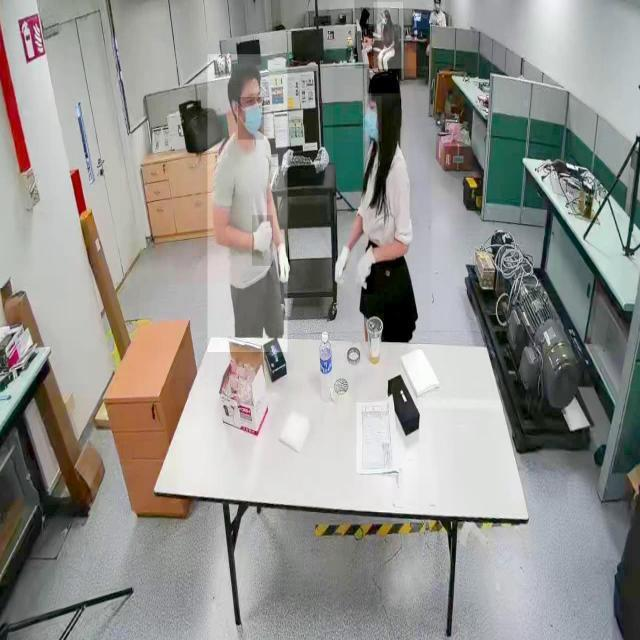gloves: (252, 216, 274, 266), (357, 243, 375, 296), (276, 242, 290, 286), (336, 245, 350, 288)
